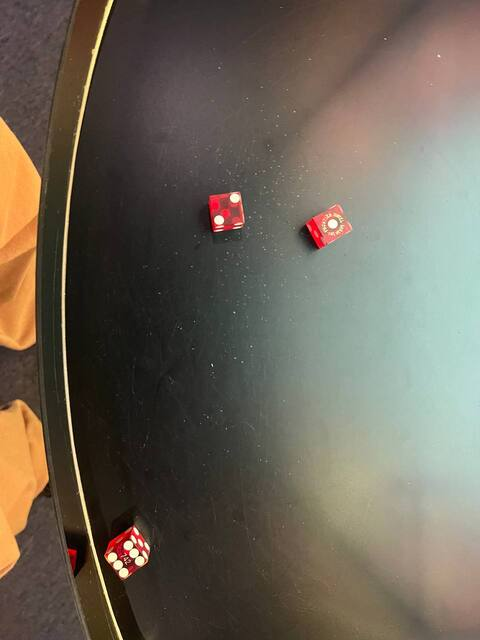one: (309, 205, 355, 244)
six: (102, 538, 148, 580)
two: (205, 189, 246, 231)
